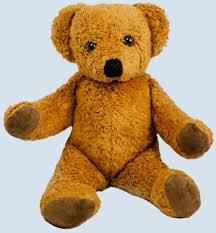teddy: (1, 1, 212, 229)
